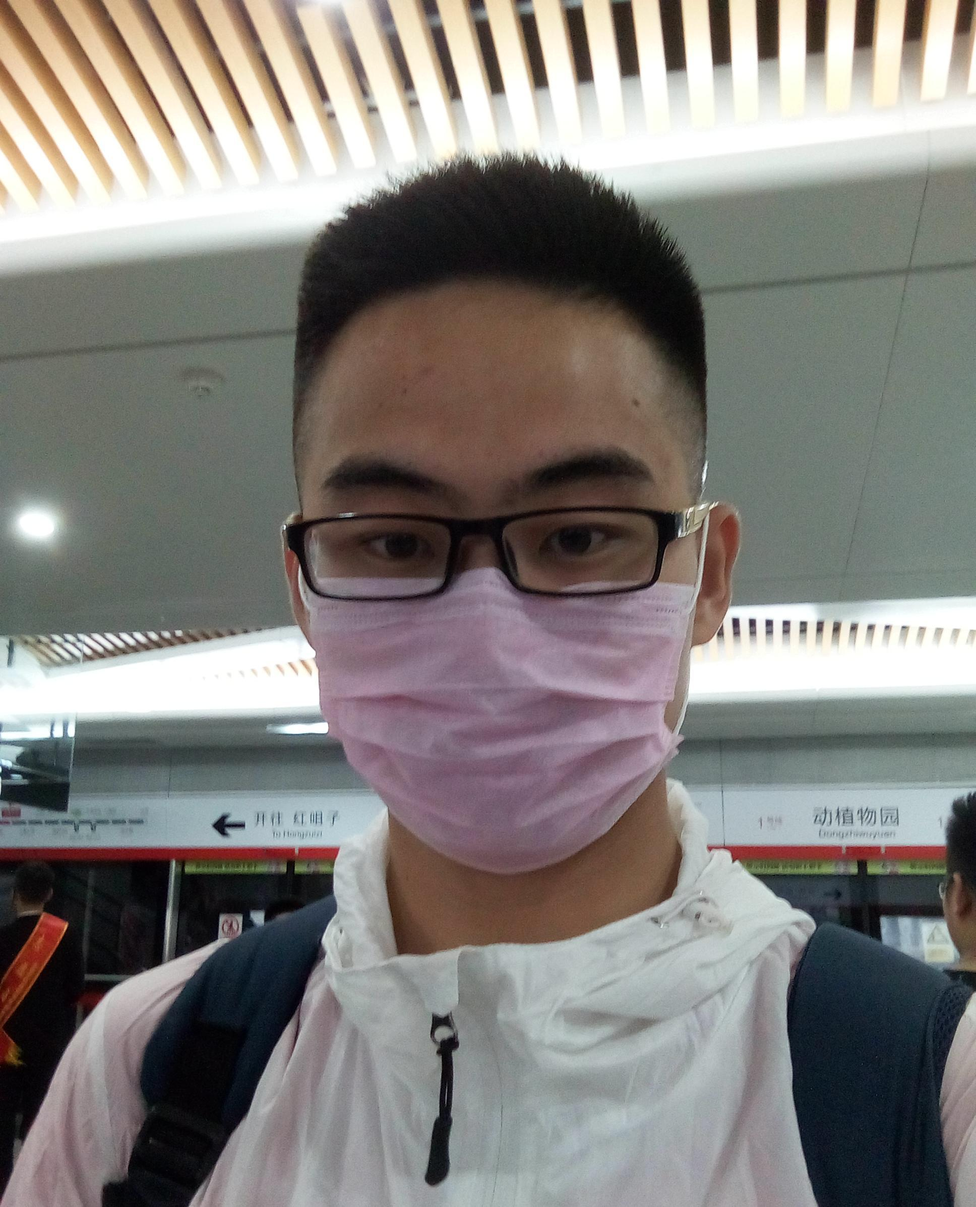OK: (286, 421, 735, 870)
